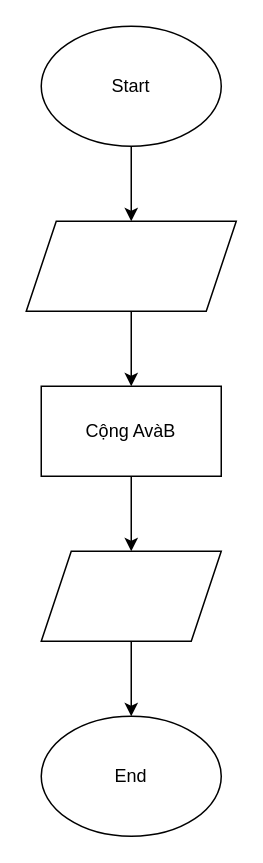
The diagram is 263 pixels wide and 863 high, and some of its shapes have lost their labels. Each missing label, with the centre of its shape:
"Nhập vào hai số A,B" goes at point 130,265.
"Tổng A+B" goes at point 130,595.
